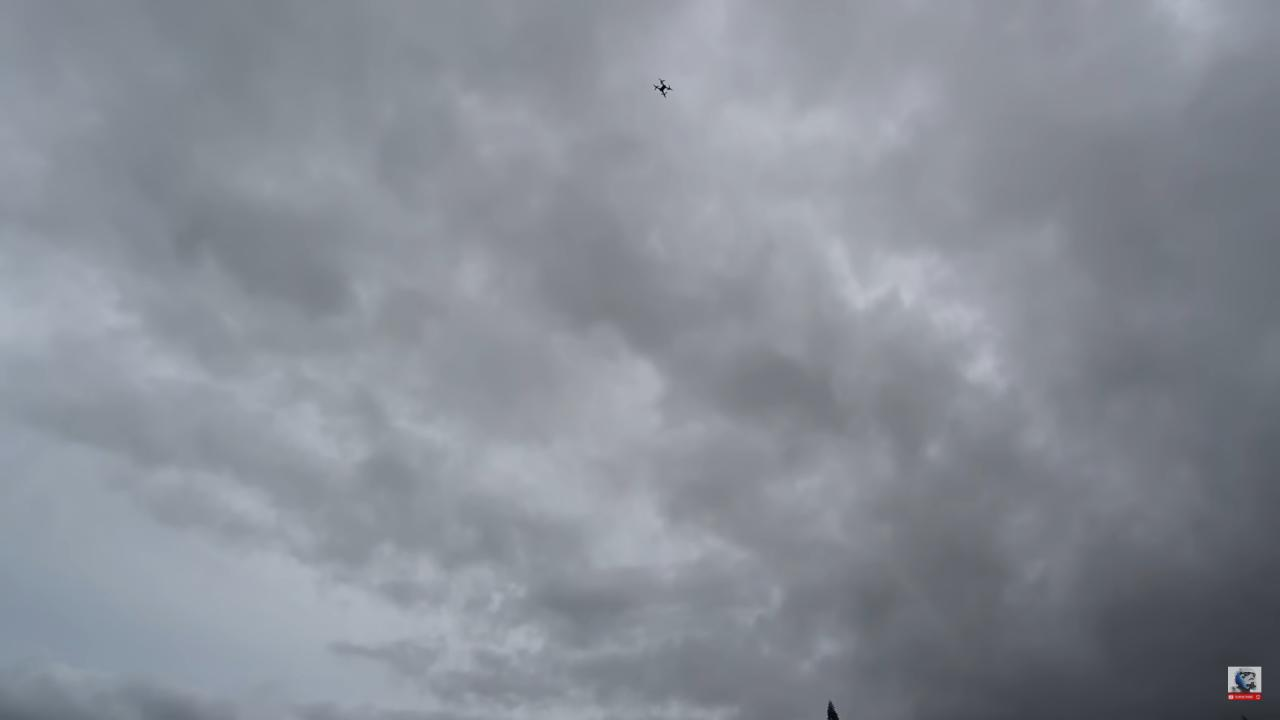Drone: (646, 74, 677, 102)
